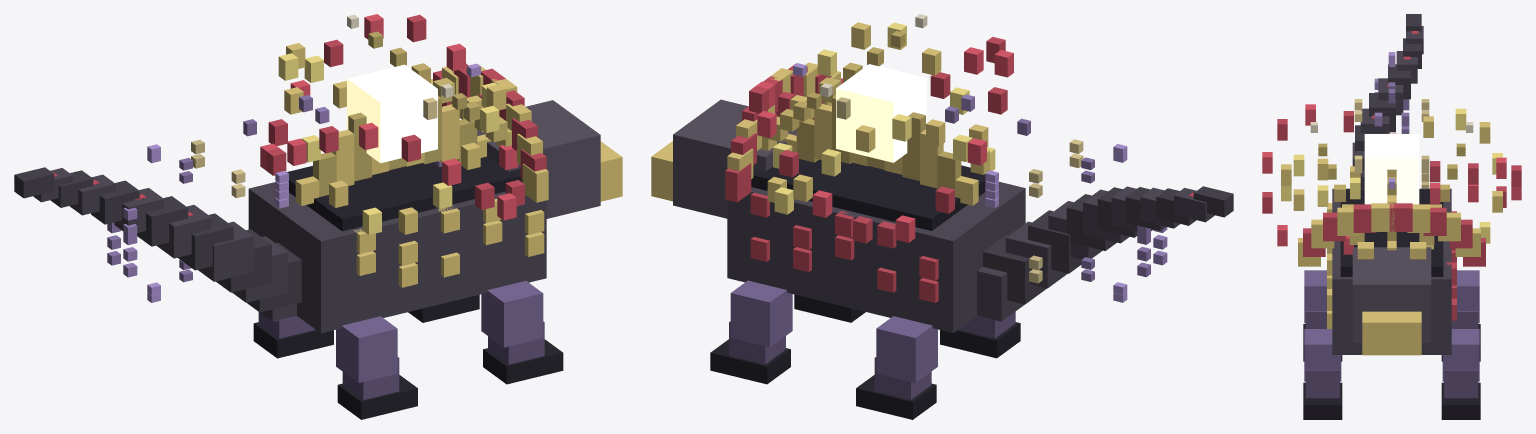
Rendered from bicolor-singularity-lizard.glb.
3 views of the same model, side by side, from view 1: azimuth 30°, elevation 25°; view 2: azimuth 150°, elevation 25°; view 3: azimuth 270°, elevation 25° (orthographic). The views are drawn at different scales.
Visible parts, largest first — view 1: Body, Limbs, Tail, CrimsonRing, Head, Scales, Armor, GoldRing, Core, Crest, Frill, Horns (+1 smaller); view 2: Body, Limbs, Tail, Head, Scales, GoldRing, CrimsonRing, Armor, Crest, Core, Frill, Horns (+1 smaller); view 3: Limbs, Head, Frill, Body, Tail, Core, CrimsonRing, GoldRing, Scales, Horns, Armor, Crest (+1 smaller).
Boxes of the visible parts, x1,y1,x2,y2 form: Body: (248,182,546,333); Limbs: (253,281,563,419); Tail: (14,167,301,321); CrimsonRing: (260,14,524,220); Head: (477,100,622,218); Scales: (107,95,544,287); Armor: (287,156,522,231); GoldRing: (278,43,506,234); Core: (347,64,437,163); Crest: (295,96,491,205); Frill: (431,63,548,202); Horns: (347,14,511,146); Body: (727,181,1025,332); Limbs: (710,280,1020,419); Tail: (977,186,1233,321); Head: (651,99,796,218); Scales: (750,94,1167,302); GoldRing: (767,22,995,214); CrimsonRing: (749,37,1013,243); Armor: (751,159,985,230); Crest: (782,95,978,205); Core: (836,64,926,162); Frill: (725,62,843,202); Horns: (757,14,927,150); Limbs: (1303,270,1480,419); Head: (1352,247,1431,355); Frill: (1298,203,1485,266); Body: (1332,188,1451,354); Tail: (1352,14,1423,188); Core: (1364,134,1419,204); CrimsonRing: (1262,104,1521,254); GoldRing: (1281,108,1502,256); Scales: (1327,78,1456,328); Horns: (1310,122,1473,259); Armor: (1340,189,1443,276); Crest: (1387,169,1396,250).
Size of the model in its own units: 11.41 by 5.84 by 5.44.
